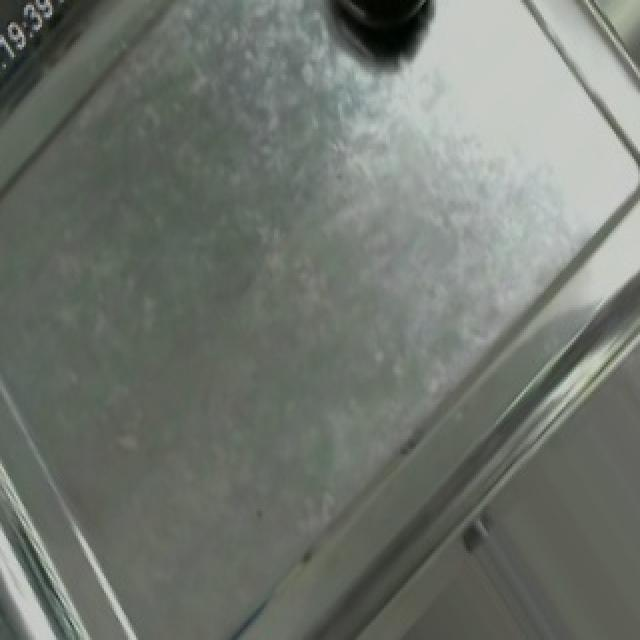Fruit: (318, 0, 452, 69)
